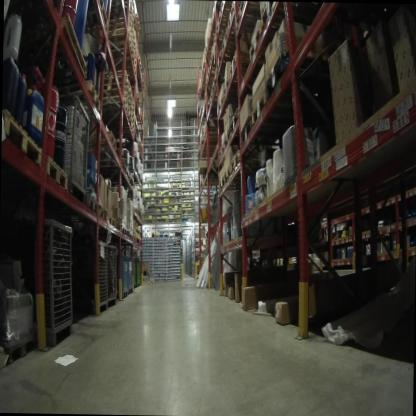pallet: (251, 87, 339, 130), (267, 56, 338, 102), (2, 108, 47, 171), (239, 120, 313, 156), (248, 28, 310, 69), (47, 76, 105, 109), (228, 52, 268, 84), (93, 25, 133, 57), (0, 338, 38, 370), (42, 150, 70, 191), (224, 75, 265, 102), (222, 162, 263, 185), (228, 105, 253, 140), (228, 146, 258, 171), (215, 10, 236, 40), (217, 176, 251, 191), (236, 11, 260, 29), (213, 134, 225, 168), (258, 6, 281, 23), (101, 92, 126, 107), (100, 66, 128, 79), (101, 83, 126, 96), (223, 124, 234, 151), (100, 75, 129, 85), (106, 213, 123, 230), (94, 204, 110, 221), (84, 192, 96, 212), (103, 210, 115, 227), (216, 95, 223, 115)
stillage: (5, 203, 80, 348), (47, 87, 92, 199), (84, 235, 109, 315), (105, 238, 120, 307)
